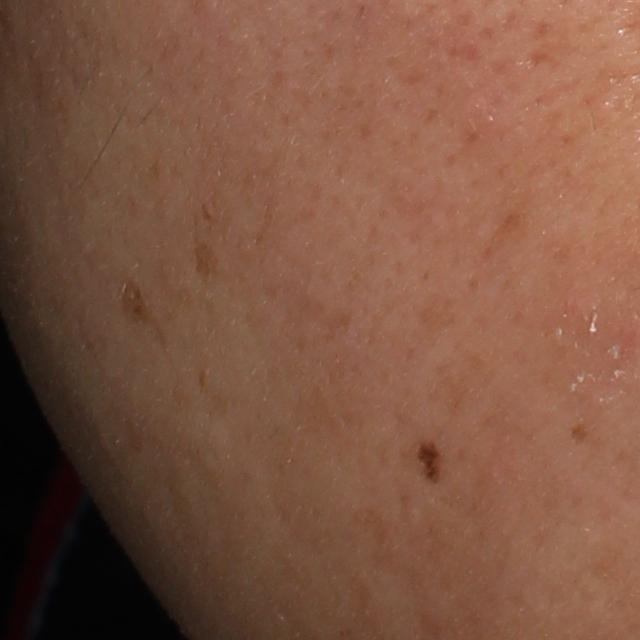nevus: (416, 439, 445, 487)
